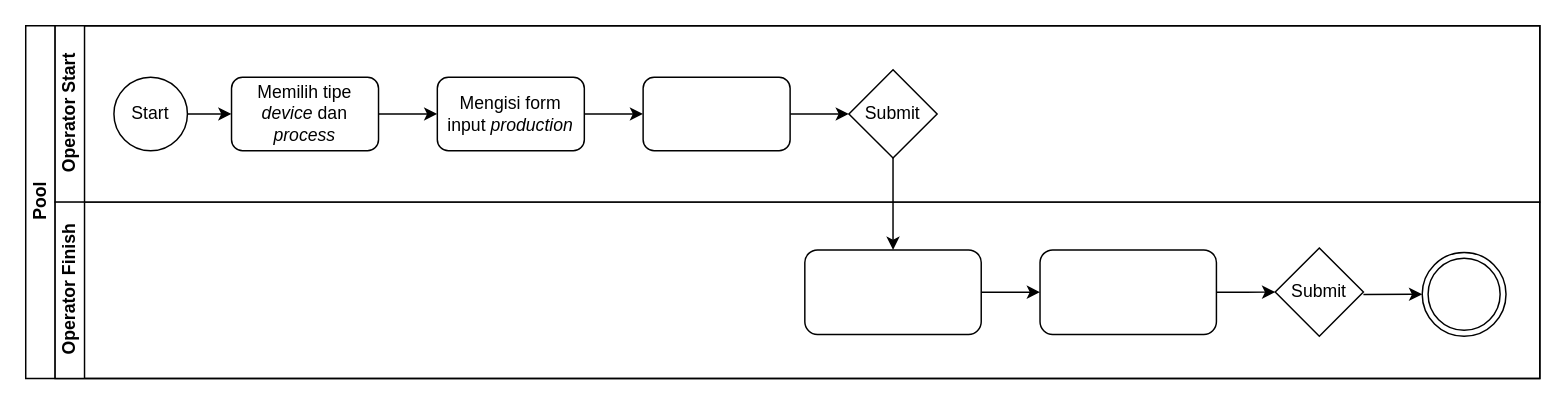
This 1566x404 diagram has some shape labels left out. Here are the shapes that lost their labels. From the top down, the box of each, then its label:
(642, 76, 790, 151): Mengirim input production
(803, 248, 981, 334): Mengisi Emp ID pada tabel operator
(1039, 248, 1216, 334): Melanjutkan input pada form production
(1421, 251, 1506, 336): Finish
